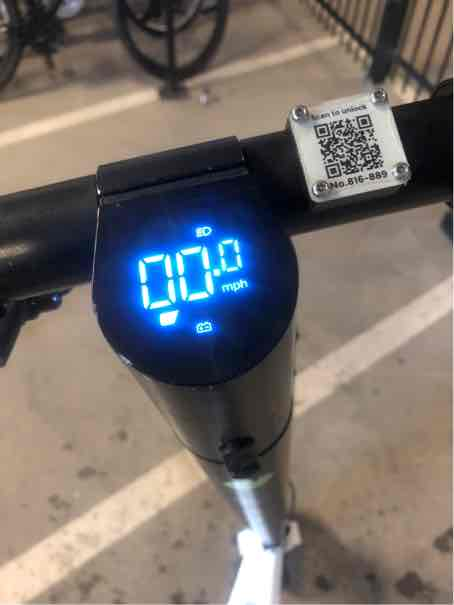scooter: (8, 36, 435, 605)
